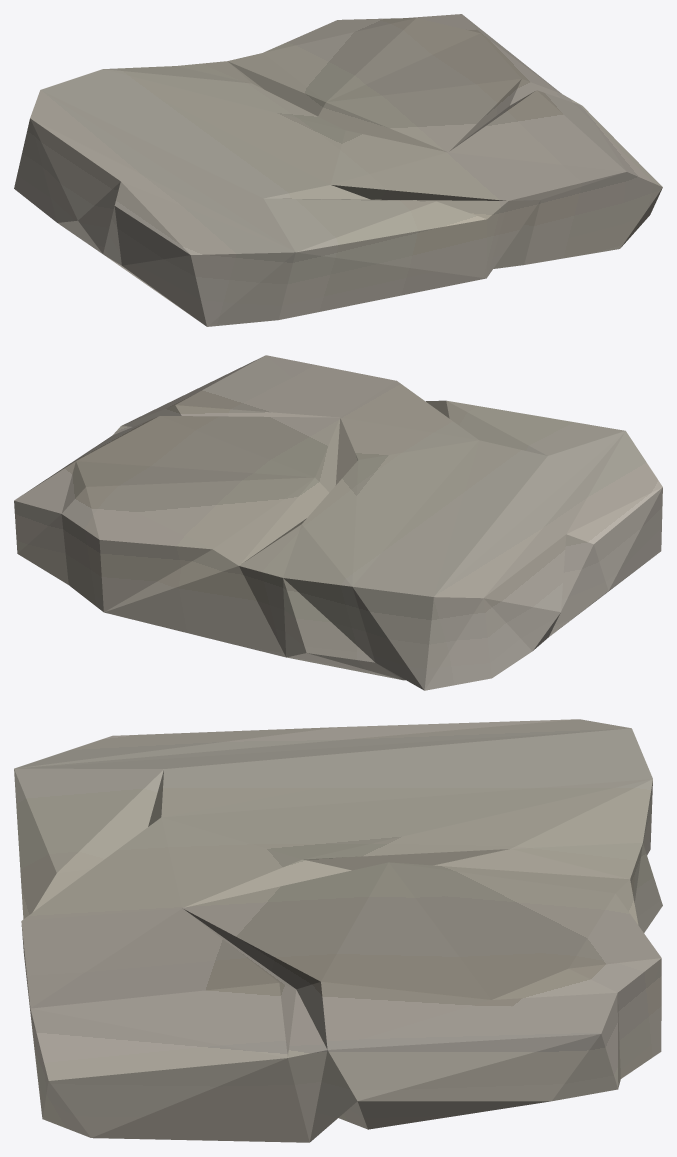
Rendered from 3D_Stair2.fbx.
The picture shows the model from 3 angles, top to bottom: view 1: azimuth 30°, elevation 25°; view 2: azimuth 150°, elevation 25°; view 3: azimuth 270°, elevation 25°; orthographic projection. The views are drawn at different scales.
Parts seen in each view (by area): view 1: Stair2; view 2: Stair2; view 3: Stair2.
Part boxes in pixels (box(x1,y1,x2,y2)): Stair2: box(14, 14, 662, 326); Stair2: box(14, 355, 662, 690); Stair2: box(14, 719, 662, 1142).
Size of the model in its own units: 96.65 by 21.66 by 82.15.
